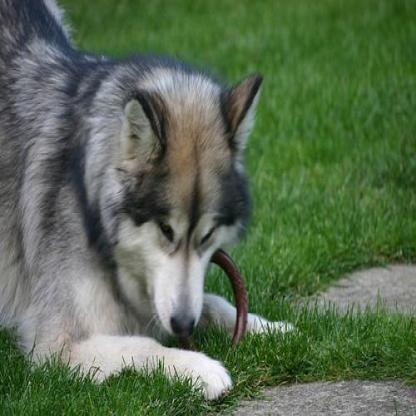malamute: (0, 0, 263, 413)
